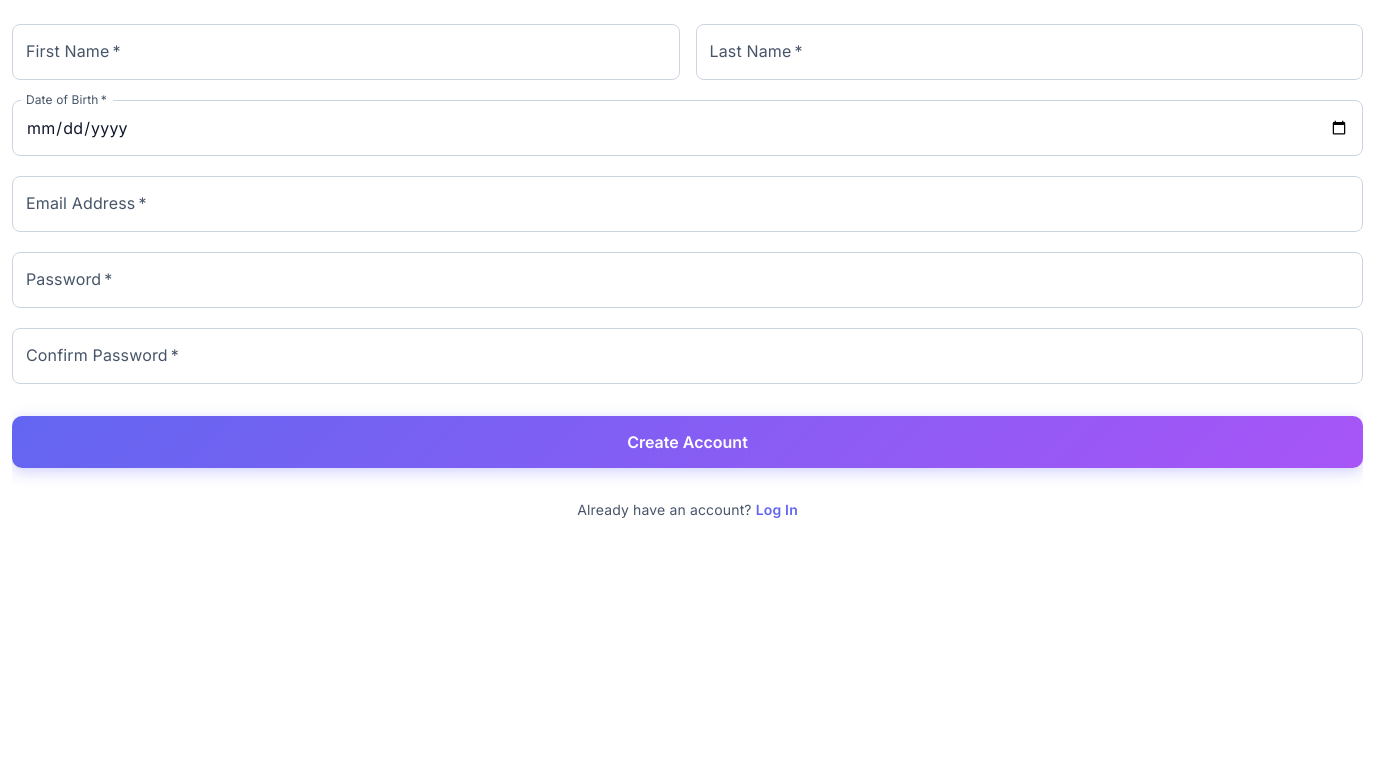
Test: SignupForm › shows validation error on blur
This screenshot has width=1378, height=768.
// Focus and blur email
Click the field labelled "Email Address *": (688, 204) [12, 176, 1363, 232]
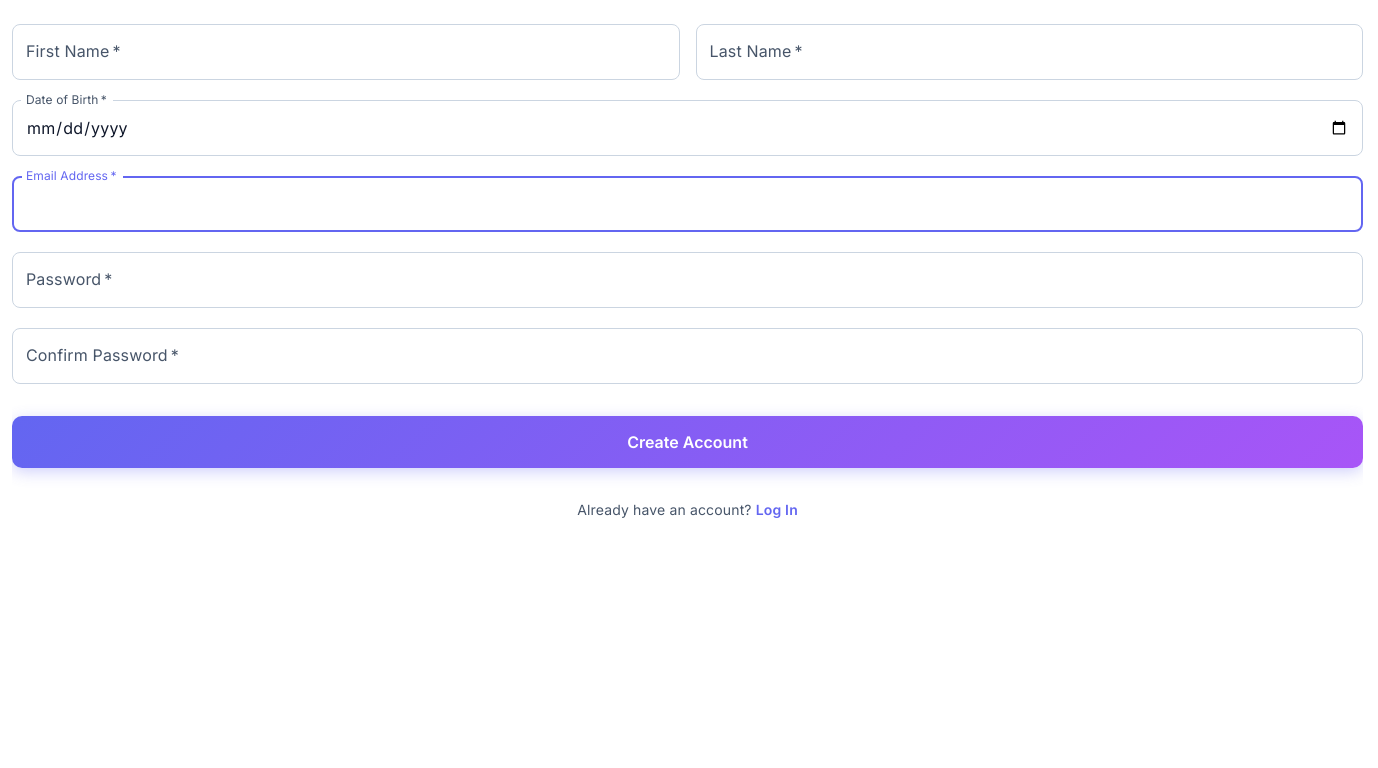
Click the password field labelled "Password *": (688, 280) [12, 252, 1363, 308]
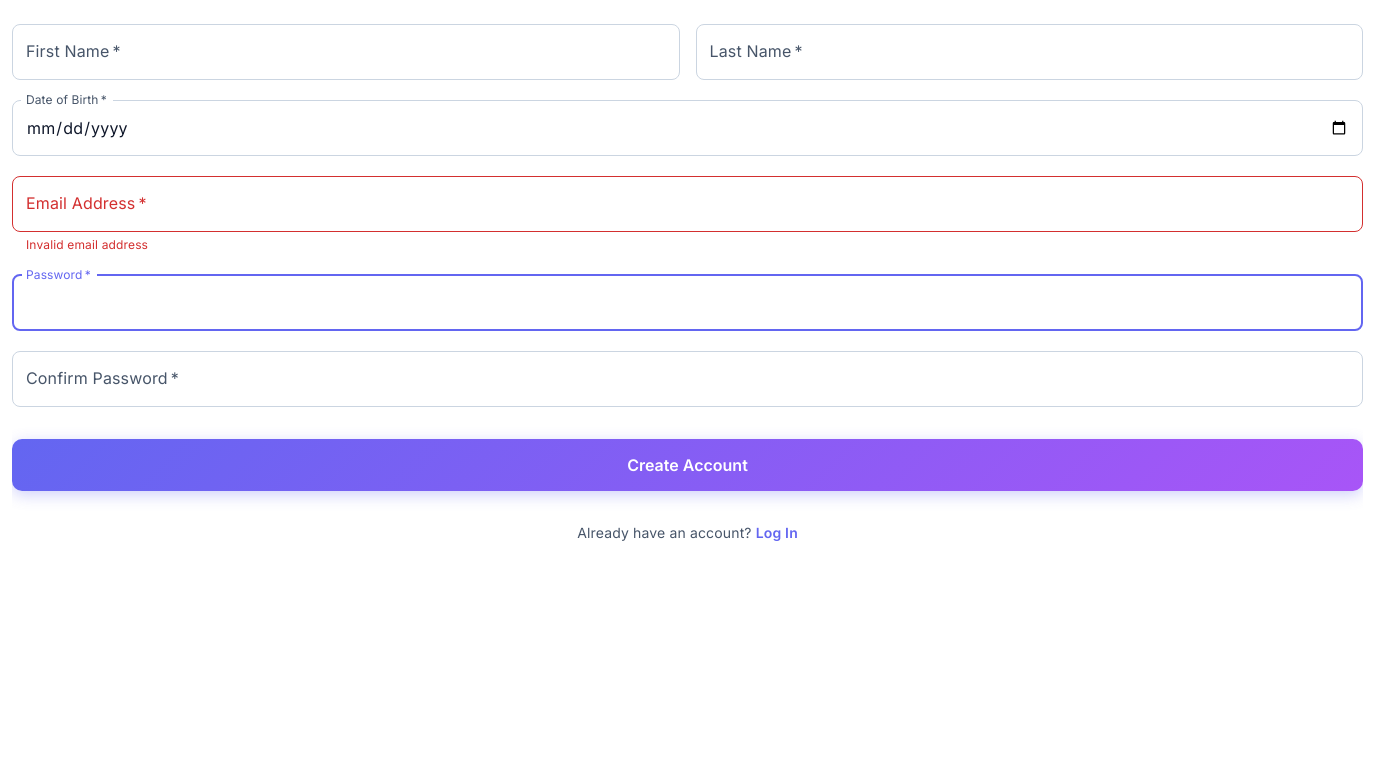
Expected: the text "Invalid email address" is shown, [26, 237, 148, 252]
